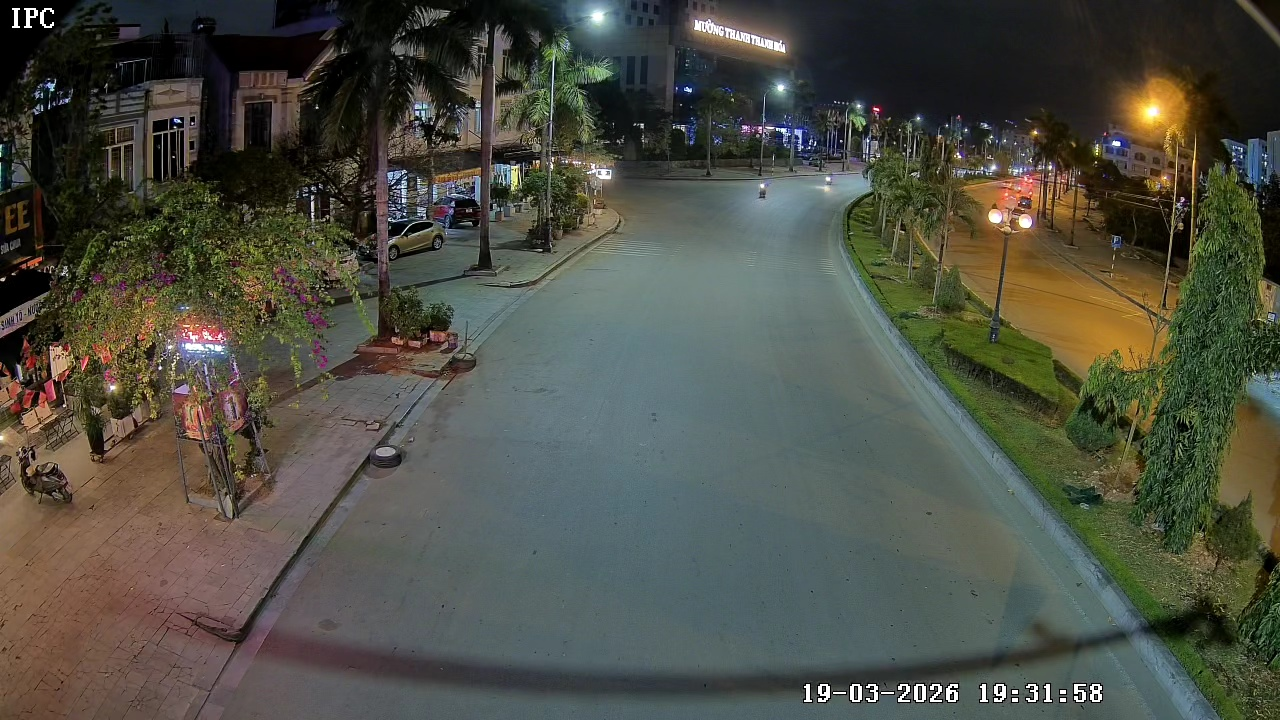motorbike: (756, 178, 772, 202)
